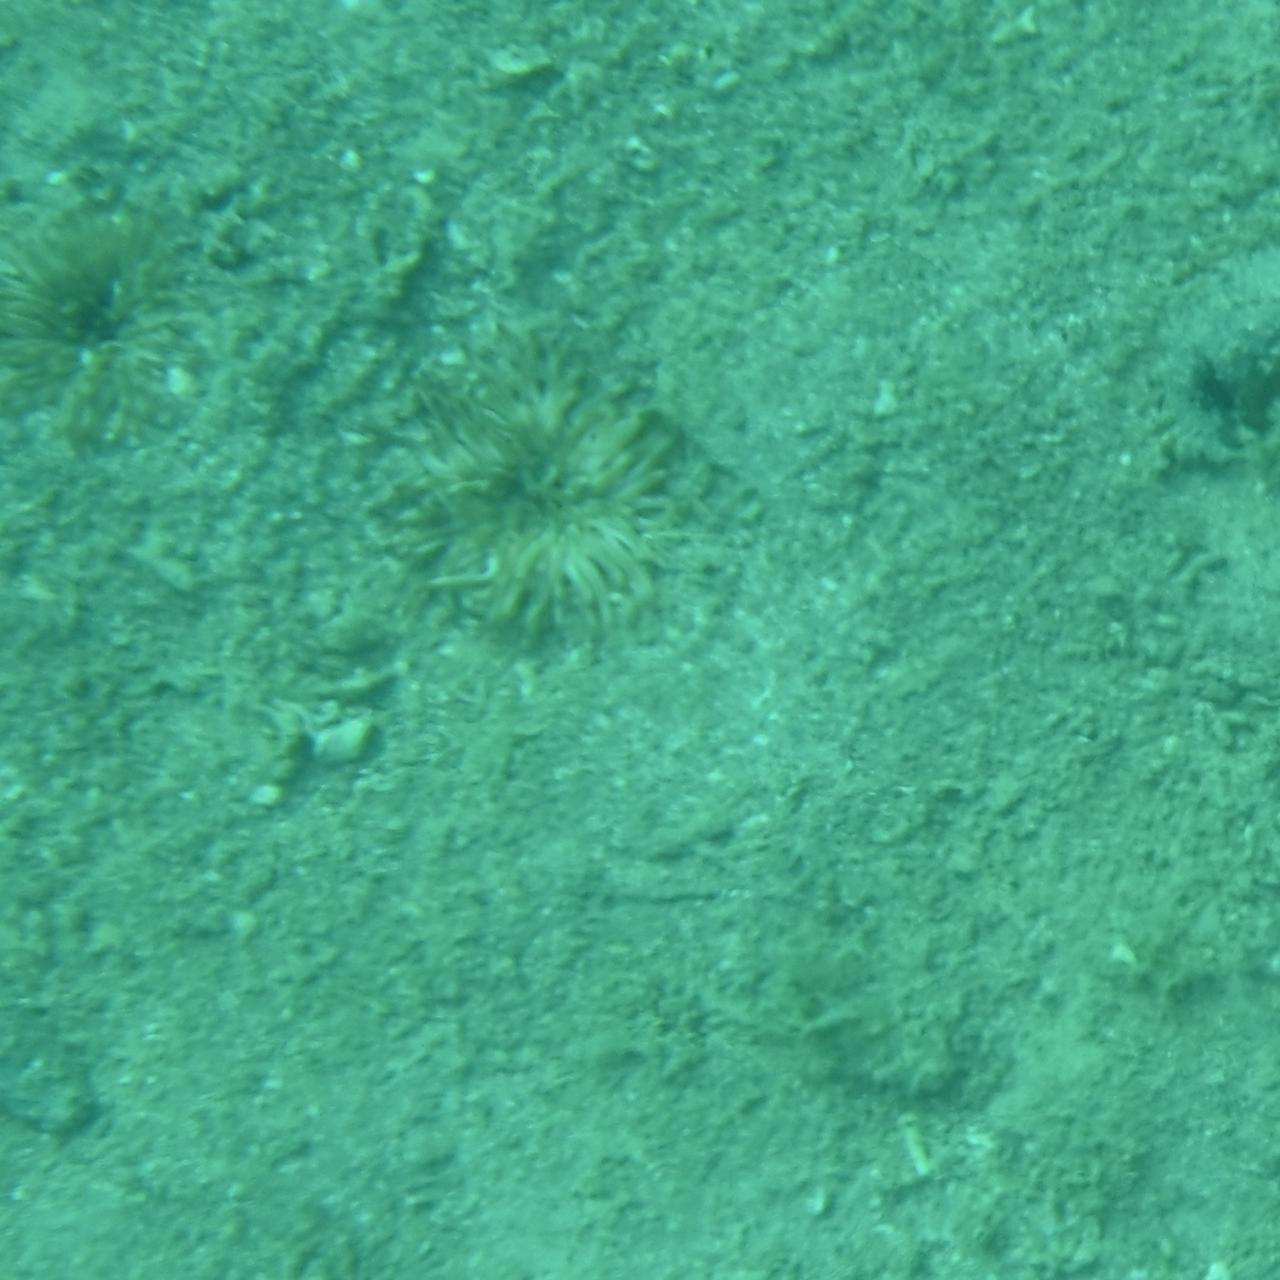Condylactis aurantiaca: (386, 331, 749, 667), (0, 141, 252, 474)
Holothuria tubulosa: (1054, 232, 1280, 502), (0, 811, 177, 1137)
